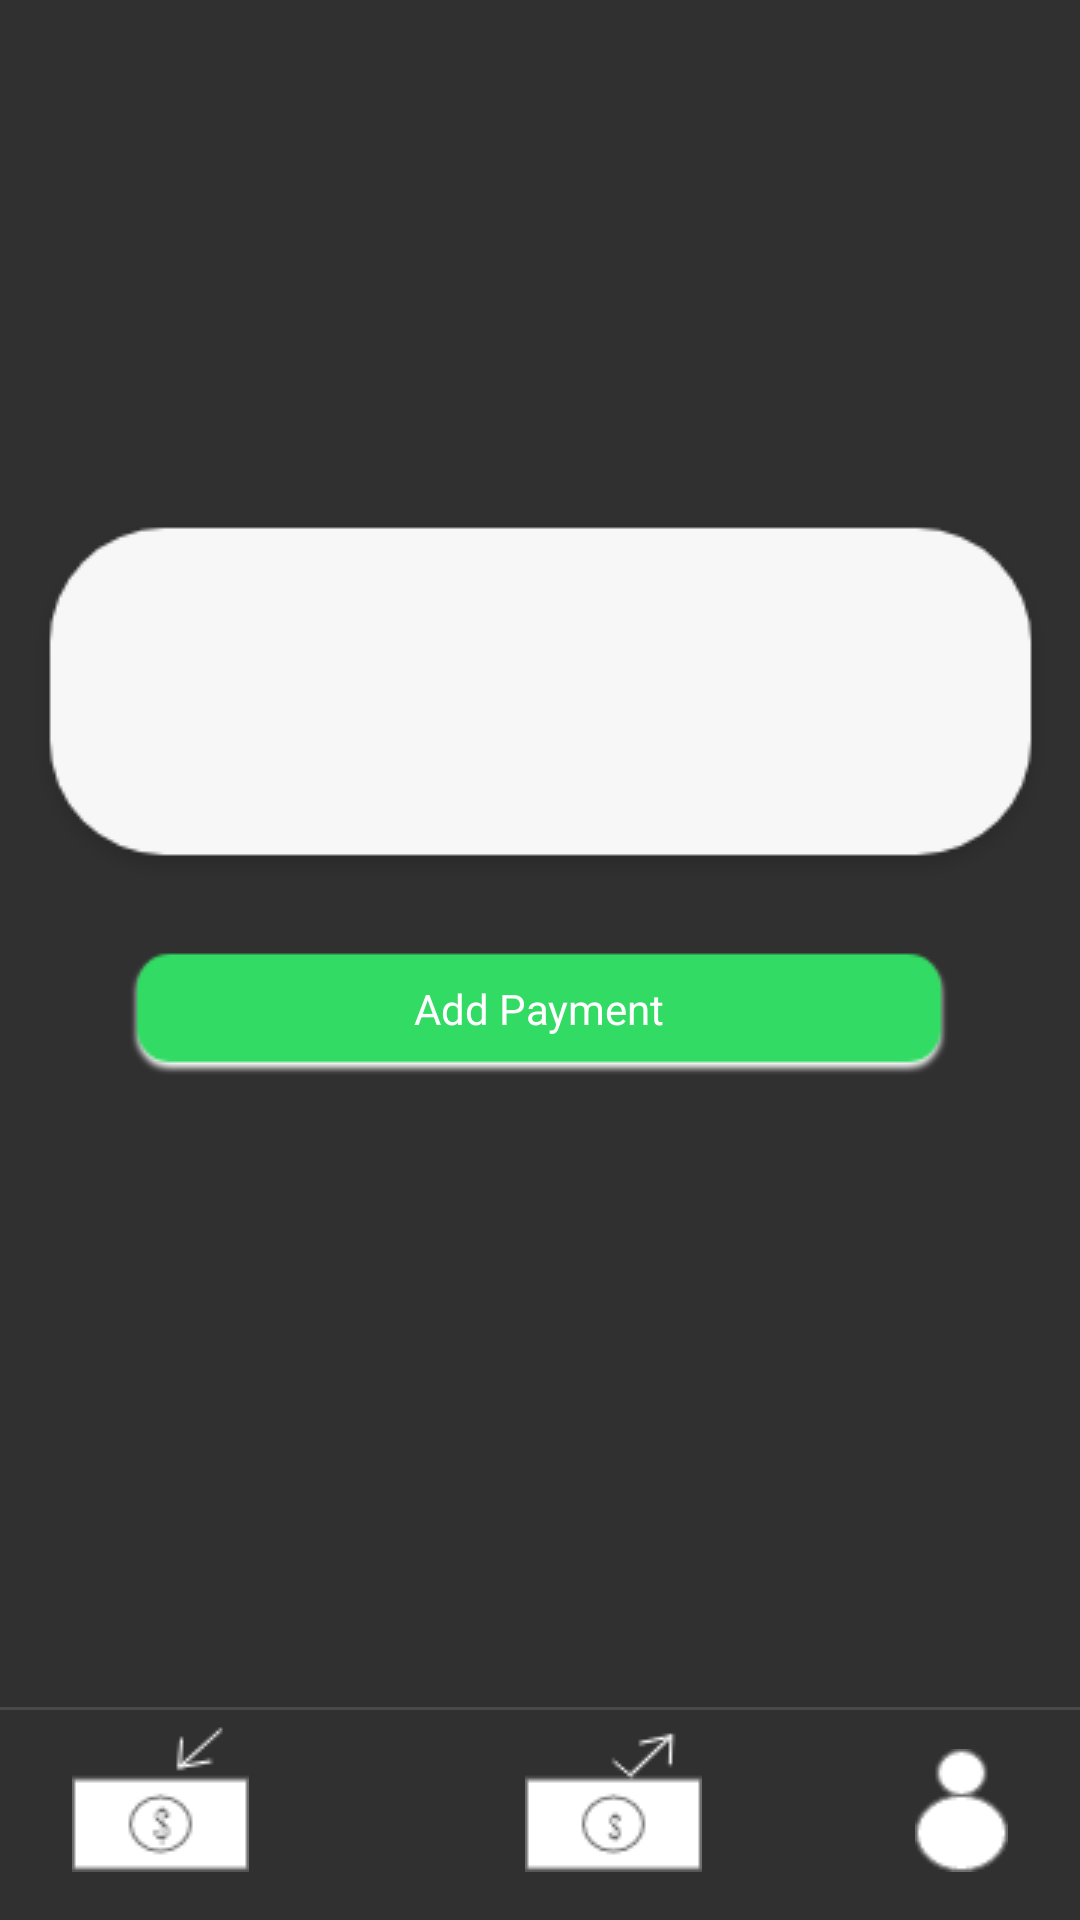

Icons on this 1080px×1920px Android screen, each with the point to tap as point (x, y):
debt: point (613, 1802)
loan: point (160, 1799)
profile: point (961, 1810)
